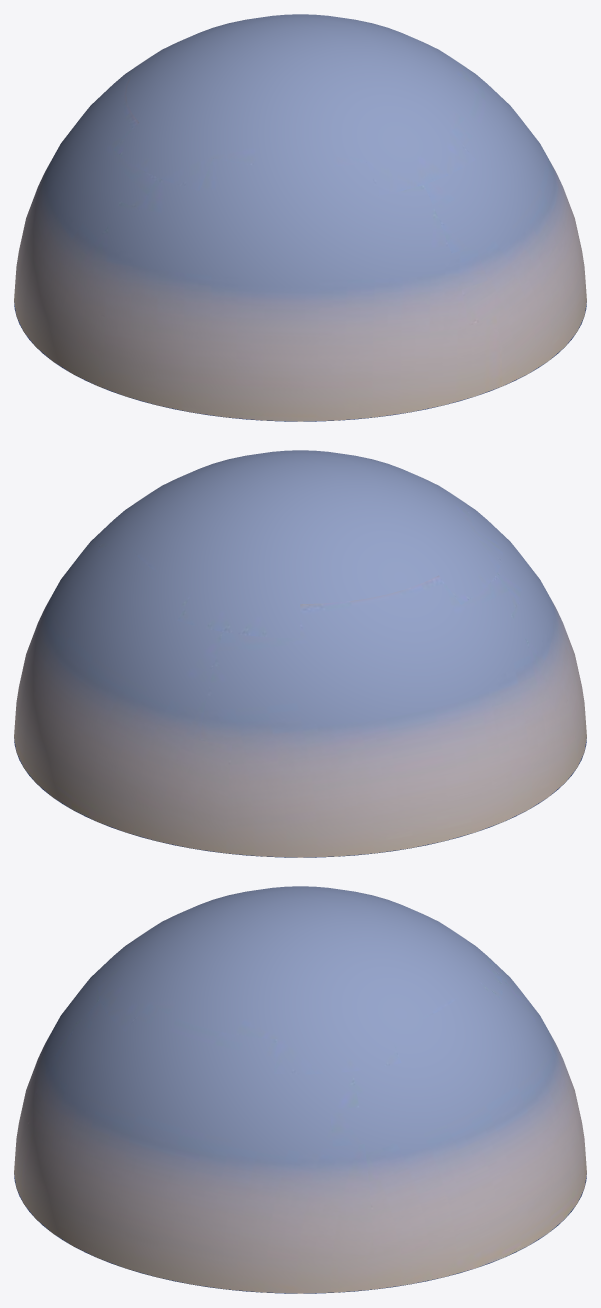
The model's file is room_future_v1.glb.
The picture shows the model from 3 angles, top to bottom: view 1: azimuth 30°, elevation 25°; view 2: azimuth 150°, elevation 25°; view 3: azimuth 270°, elevation 25°; orthographic projection.
Parts seen in each view (by area): view 1: R_future_sky, R_future_city; view 2: R_future_sky, R_future_city; view 3: R_future_sky, R_future_city.
Part boxes in pixels (left/top/right/bottom): R_future_sky: left=14, top=14, right=586, bottom=421; R_future_city: left=14, top=302, right=586, bottom=421; R_future_sky: left=14, top=450, right=586, bottom=857; R_future_city: left=14, top=738, right=586, bottom=857; R_future_sky: left=14, top=886, right=586, bottom=1293; R_future_city: left=14, top=1174, right=586, bottom=1293.
Bounding box in the file's own units: 360 × 180 × 360.
Materials: 4 (4 with a texture image).
